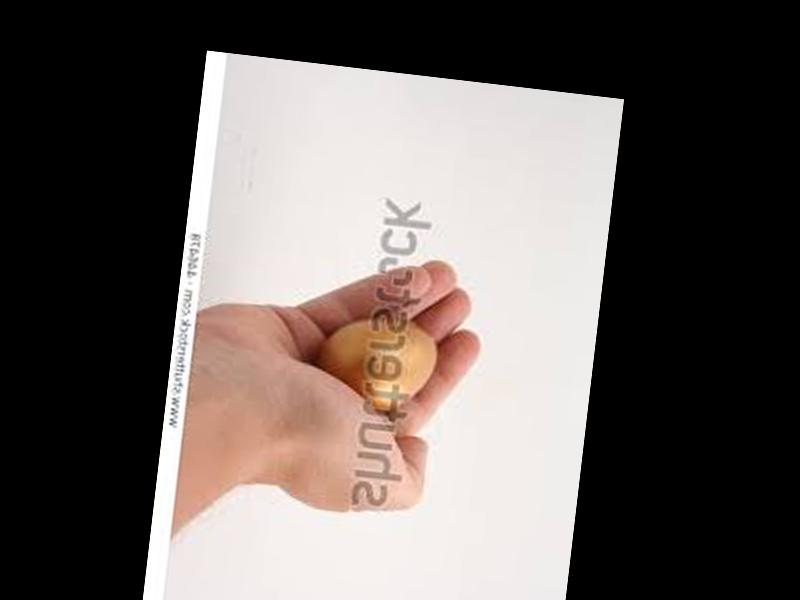Eggs: (316, 312, 439, 412)
